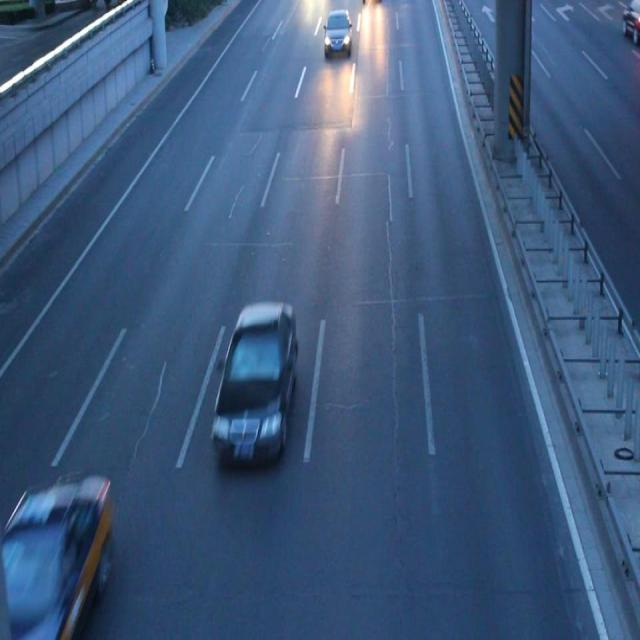car: (1, 475, 112, 640), (210, 300, 297, 461), (322, 11, 352, 55)
